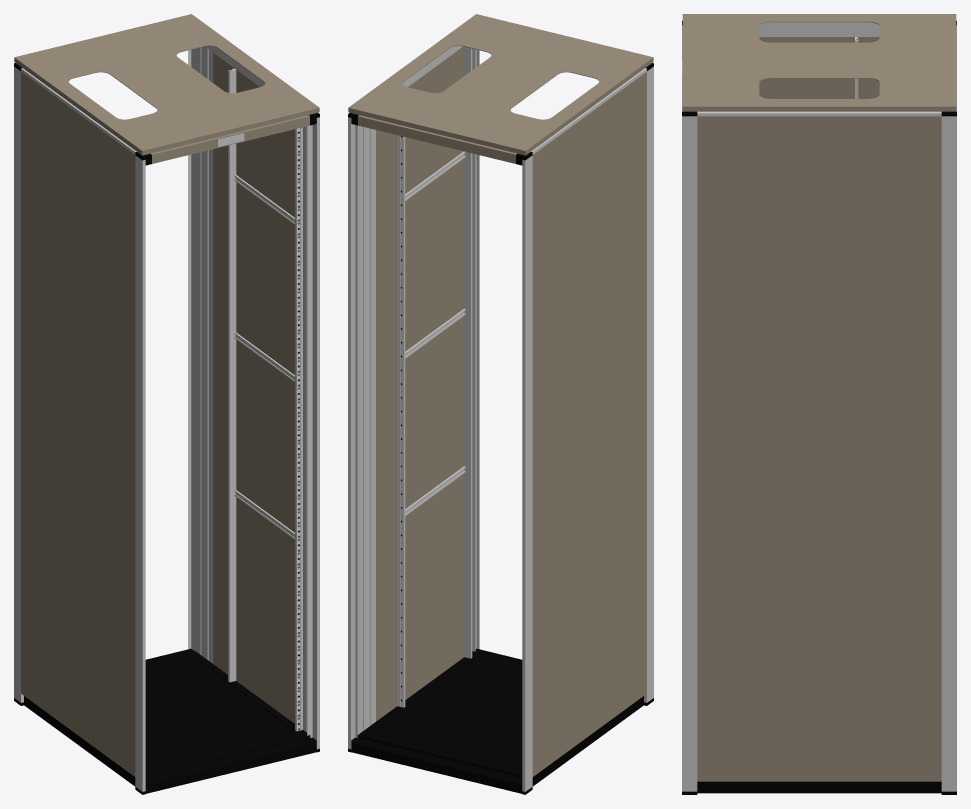
Rendered from RACK_44U.fbx.
The picture shows the model from 3 angles, left to right: view 1: azimuth 30°, elevation 25°; view 2: azimuth 150°, elevation 25°; view 3: azimuth 270°, elevation 25°; orthographic projection. The views are drawn at different scales.
Visible parts, largest first — view 1: Rack090, Rectangle051; view 2: Rack090, Rectangle051; view 3: Rack090, Rectangle051.
Boxes of the visible parts, <box> form: Rack090: <box>14,14,319,794</box>; Rectangle051: <box>24,648,316,793</box>; Rack090: <box>348,14,653,794</box>; Rectangle051: <box>351,648,643,793</box>; Rack090: <box>682,14,956,794</box>; Rectangle051: <box>697,781,941,793</box>.
Bounding box in the file's own units: 600 × 2081 × 753.
5 materials, 2 textured.
